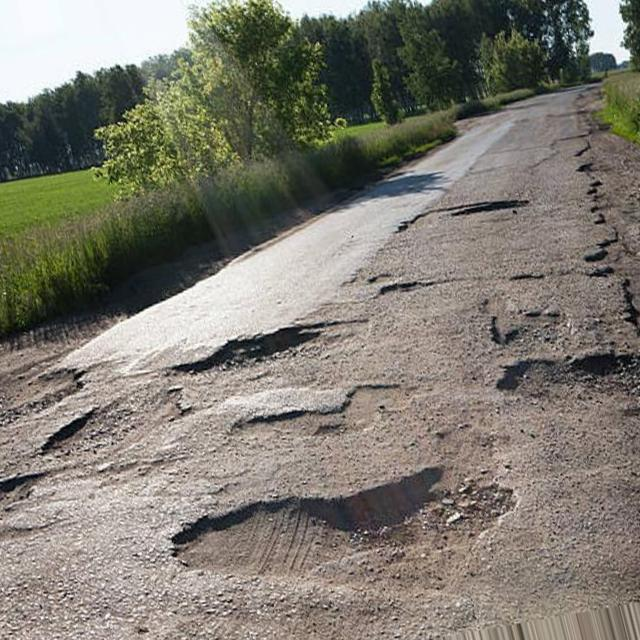Lubang: (181, 476, 510, 587), (172, 319, 365, 386), (43, 389, 186, 461), (507, 358, 640, 417)
Pinggir: (557, 92, 640, 346)
